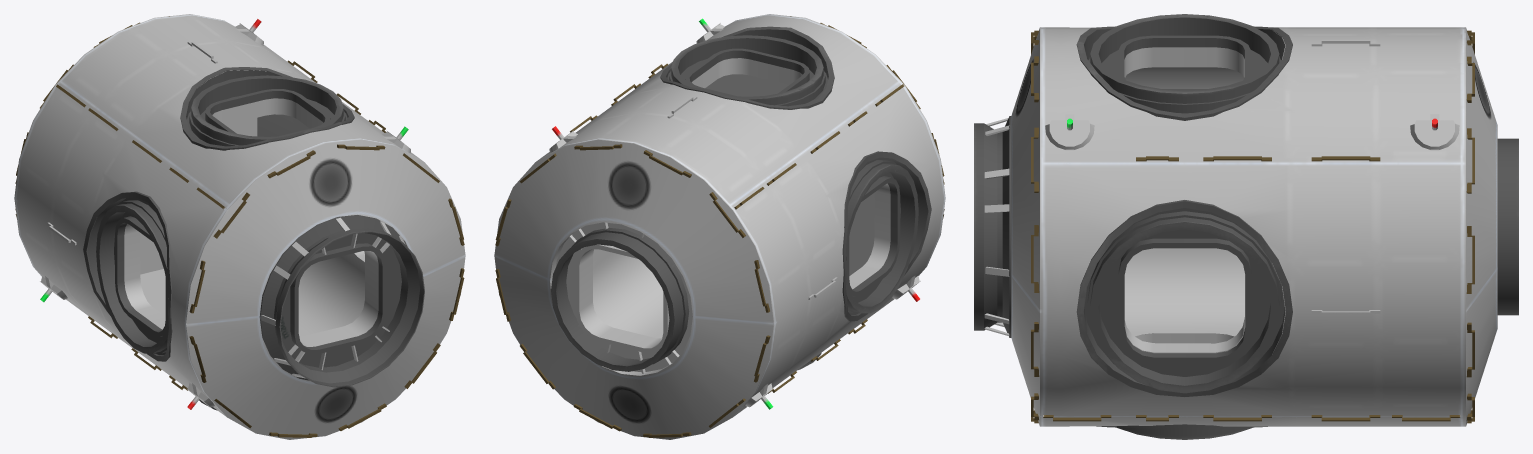
File: IssModule_F.FBX
The picture shows the model from 3 angles, left to right: view 1: azimuth 30°, elevation 25°; view 2: azimuth 150°, elevation 25°; view 3: azimuth 270°, elevation 25°; orthographic projection. The views are drawn at different scales.
Parts seen in each view (by area): view 1: IssModule_F; view 2: IssModule_F; view 3: IssModule_F.
Part boxes in pixels (left/top/right/bottom): IssModule_F: left=14, top=14, right=465, bottom=439; IssModule_F: left=494, top=14, right=945, bottom=439; IssModule_F: left=974, top=14, right=1518, bottom=439.
Bounding box in the file's own units: 258 × 258 × 341.
